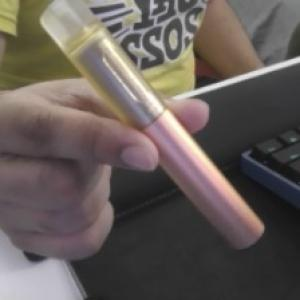Golden-E-Ciggirate: (37, 0, 268, 251)
